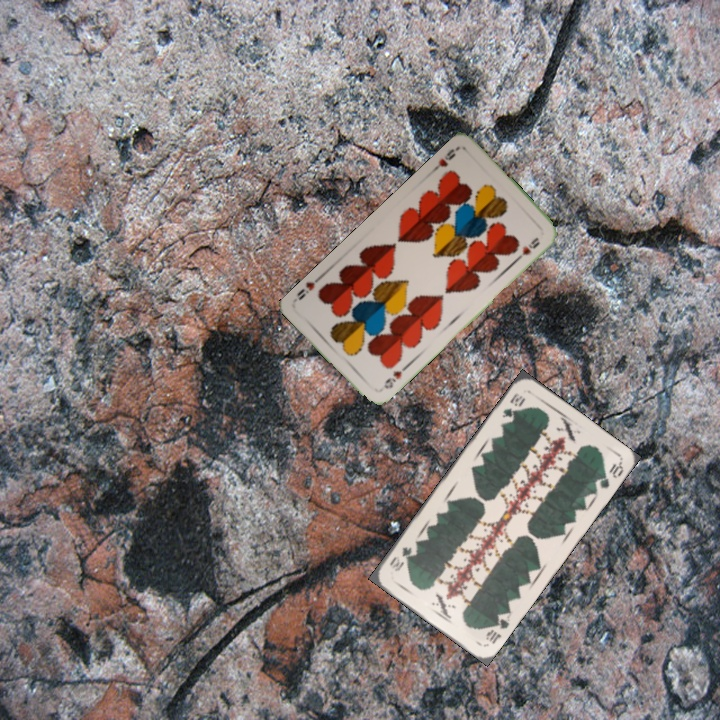G10: (481, 609, 513, 647), (498, 389, 528, 420)
H9: (428, 143, 462, 175), (380, 366, 404, 392)
